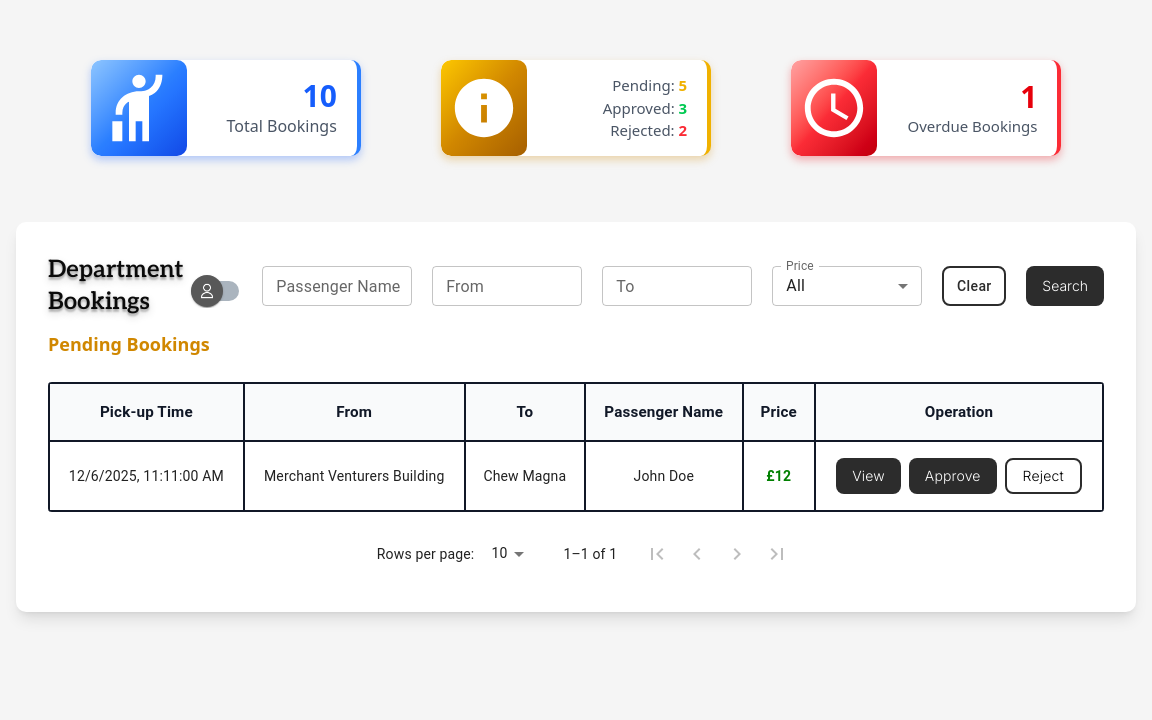
Test: Approve and Reject actions › clicking Attach without PO number shows validation error
The width and height of the screenshot is (1152, 720).
Click the button "Approve". click: [953, 476]
box: [909, 458, 997, 494]
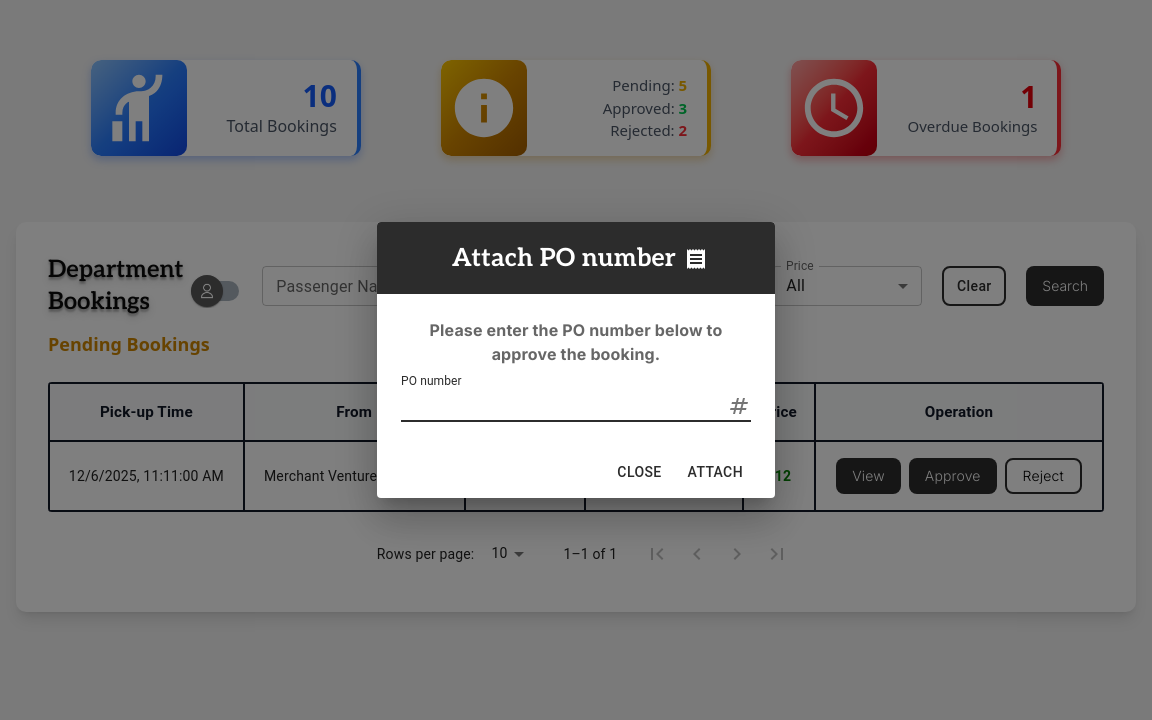
Result: the button "Attach" is shown
Click the button "Attach". click: [715, 472]
box: [680, 454, 751, 490]
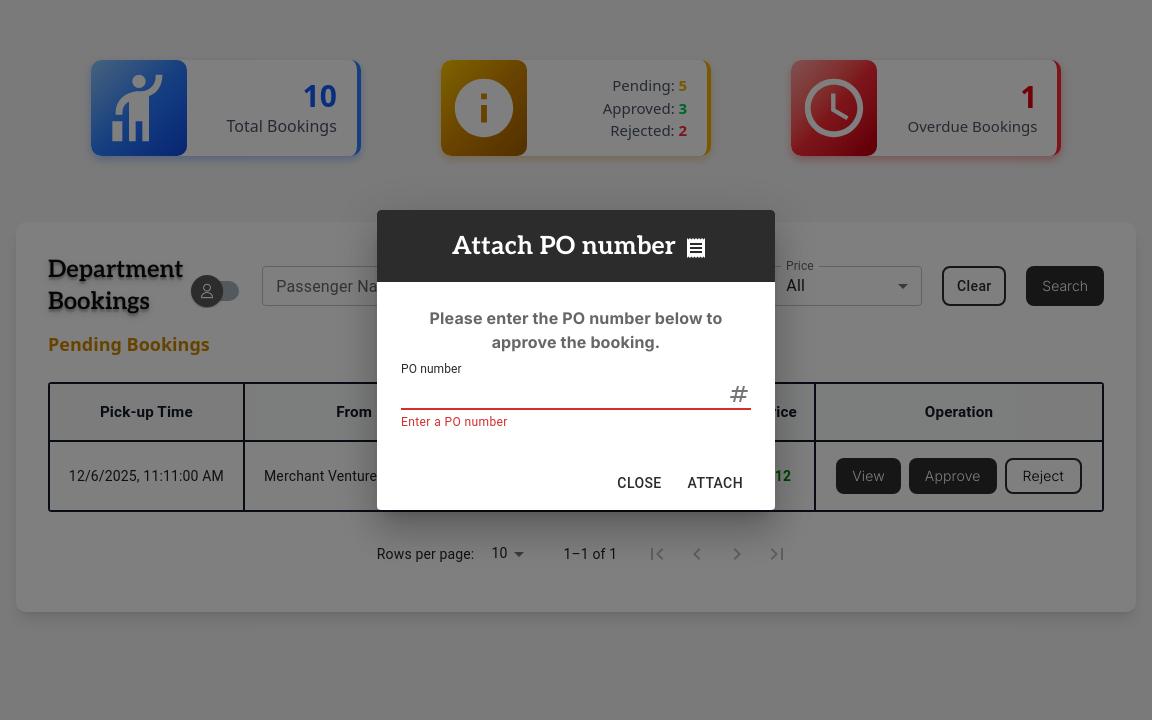
Result: the text "Enter a PO number" is shown at [401, 415, 508, 429]
